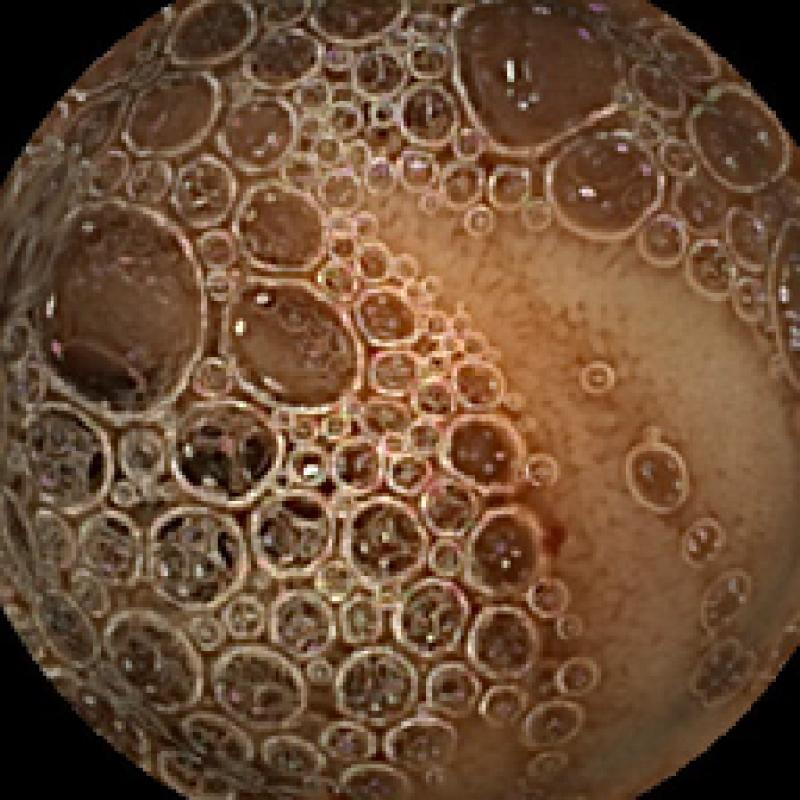bleeding: (57, 339, 272, 496), (278, 417, 419, 577), (522, 487, 568, 559)
